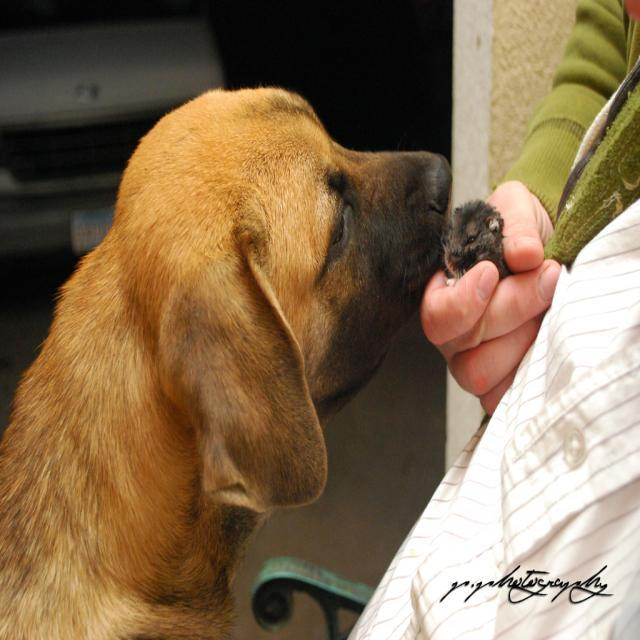rat: (438, 199, 516, 284)
